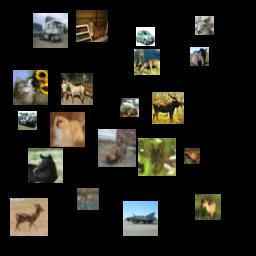airplane: (123, 201, 158, 236)
automobile: (18, 111, 37, 130), (136, 27, 155, 46)
cat: (13, 70, 48, 105), (120, 98, 139, 117)
deer: (138, 138, 176, 176), (10, 198, 48, 236), (152, 92, 184, 124), (134, 49, 160, 75), (195, 194, 221, 220), (77, 188, 99, 210), (195, 16, 214, 35)
dog: (98, 129, 136, 167), (50, 112, 85, 147)
frog: (184, 148, 200, 164)
truck: (33, 13, 68, 48)
